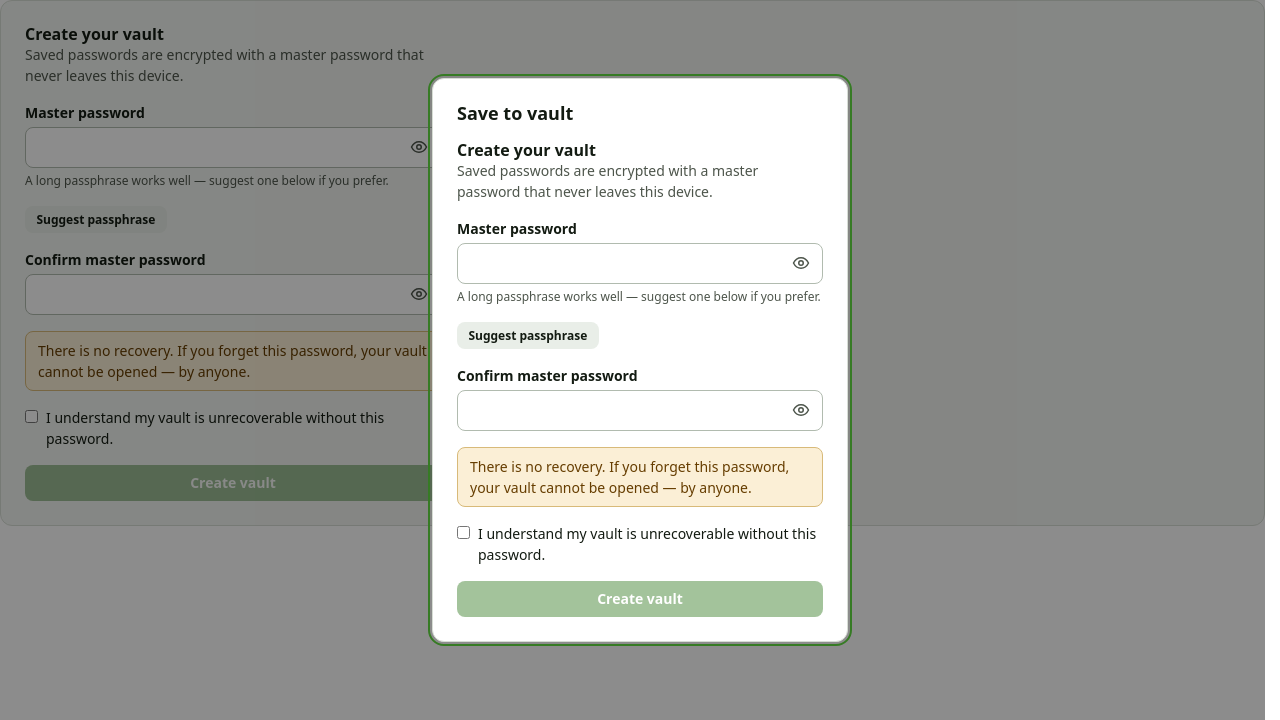
Test: SaveEntryDialog › requires a name before saving
In the password field labelled "Master password": x=640, y=263 [457, 243, 823, 284], type "a-long-master-pw"
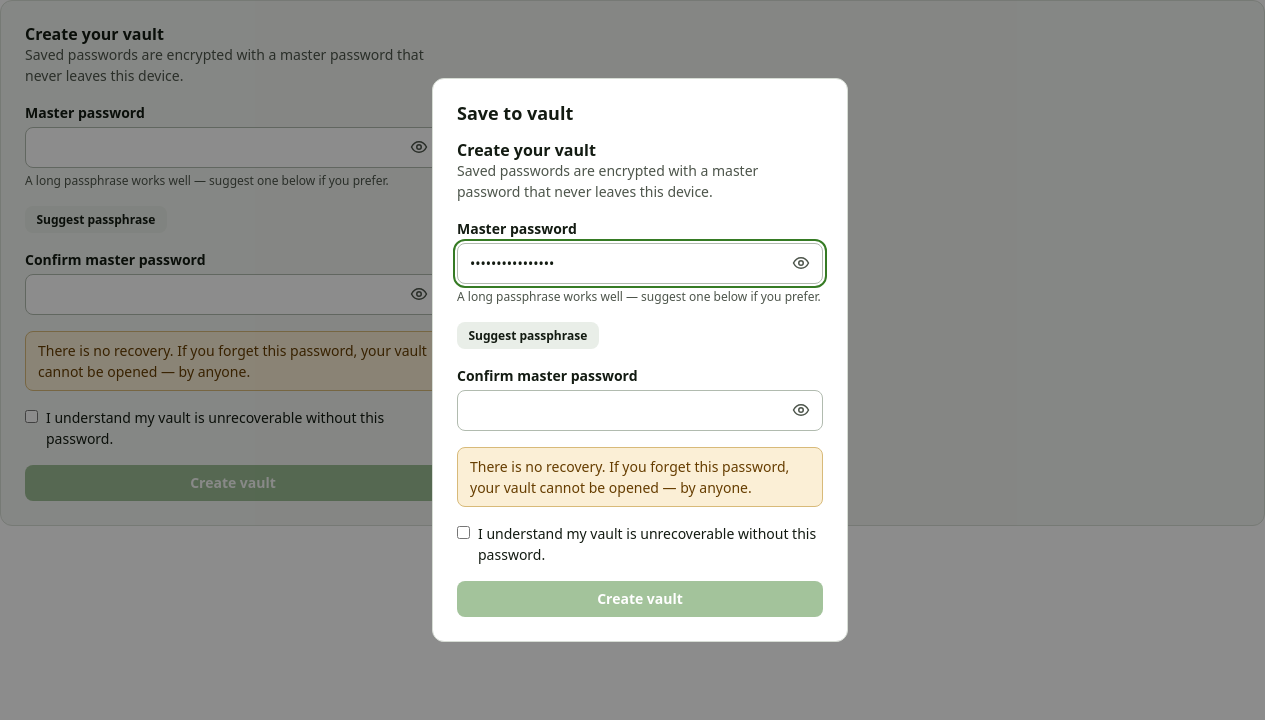
In the password field labelled "Confirm master password": x=640, y=410 [457, 390, 823, 431], type "a-long-master-pw"
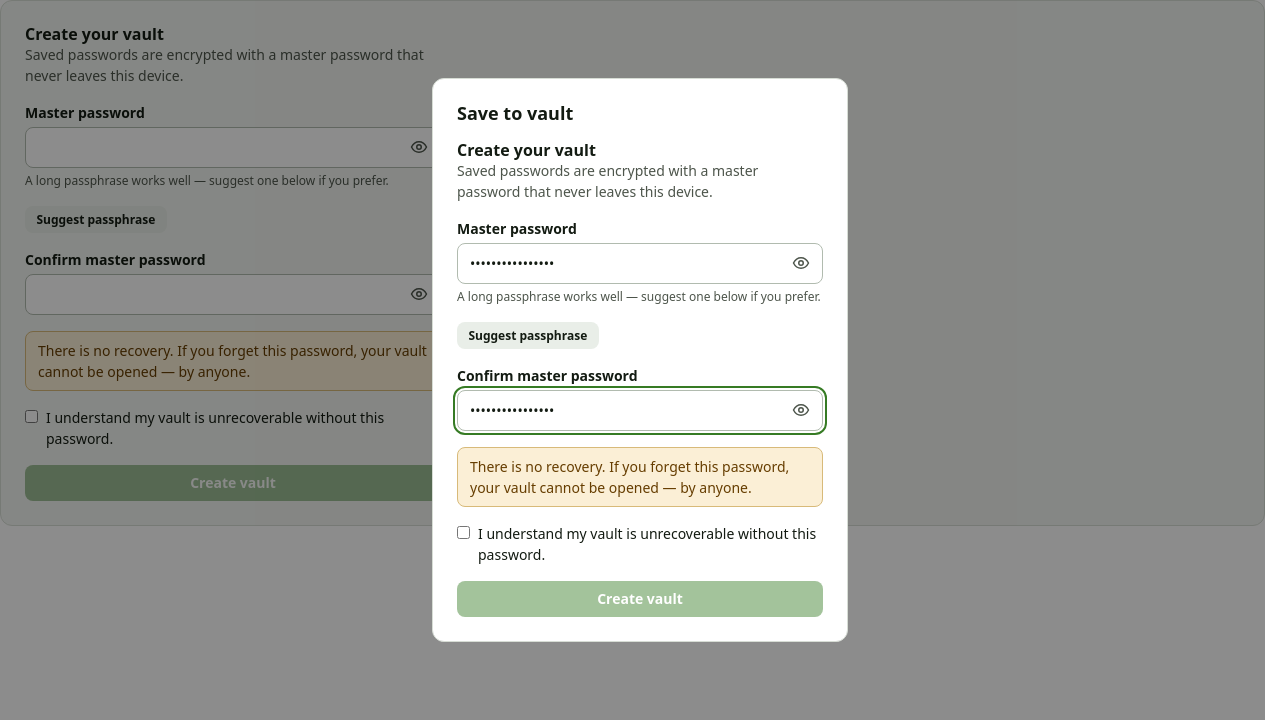
Click the checkbox: x=464, y=532 [457, 526, 470, 539]
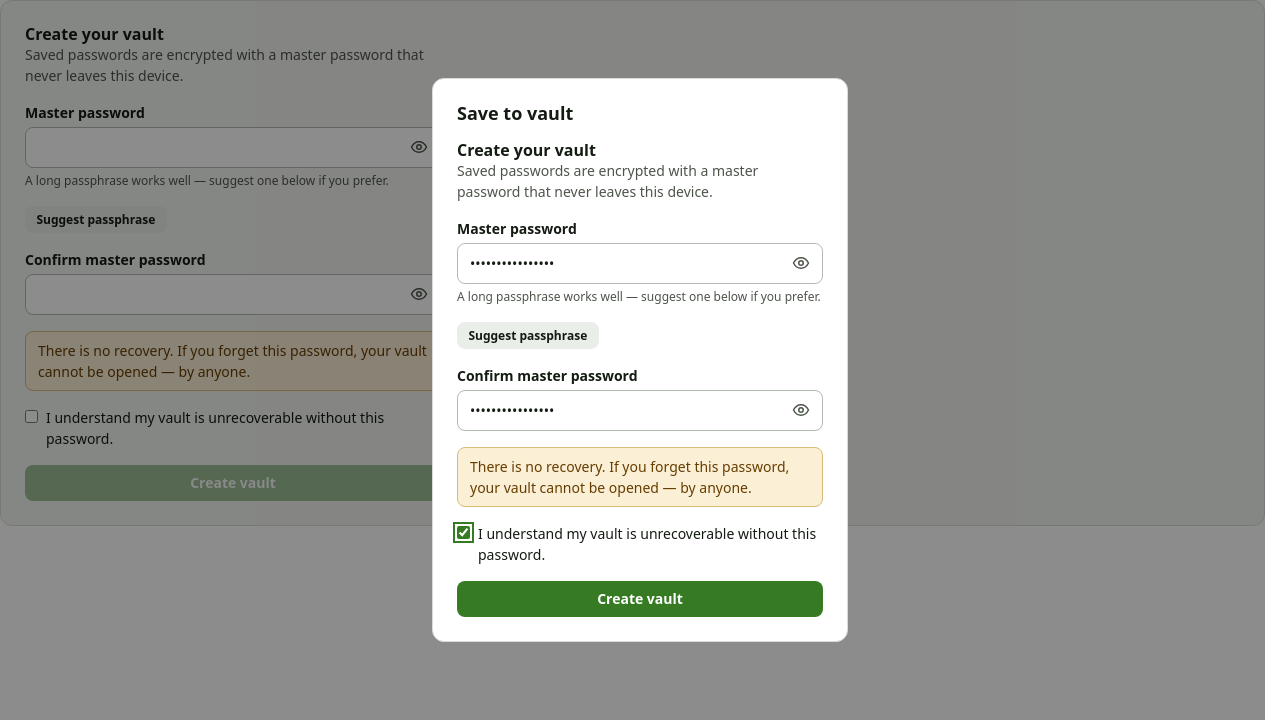
Click the button "Create vault": x=640, y=599 [457, 581, 823, 617]
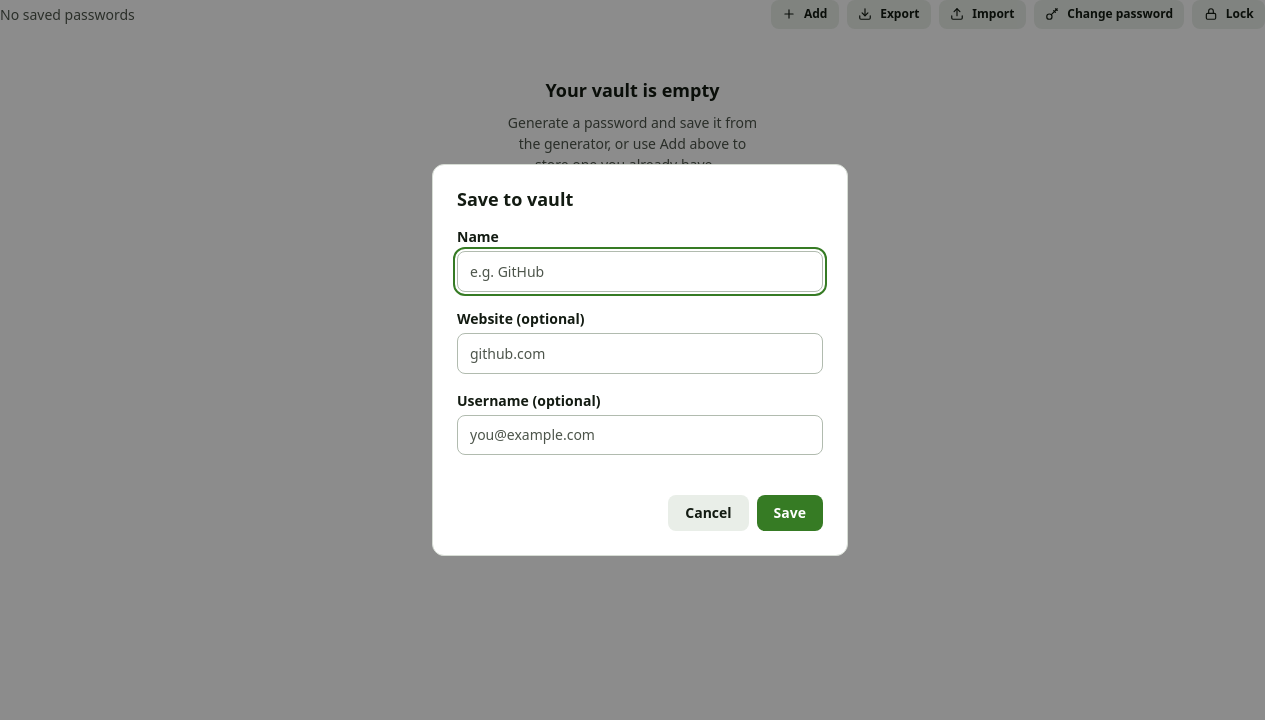
Click the button "Save": x=790, y=513 [757, 495, 823, 531]
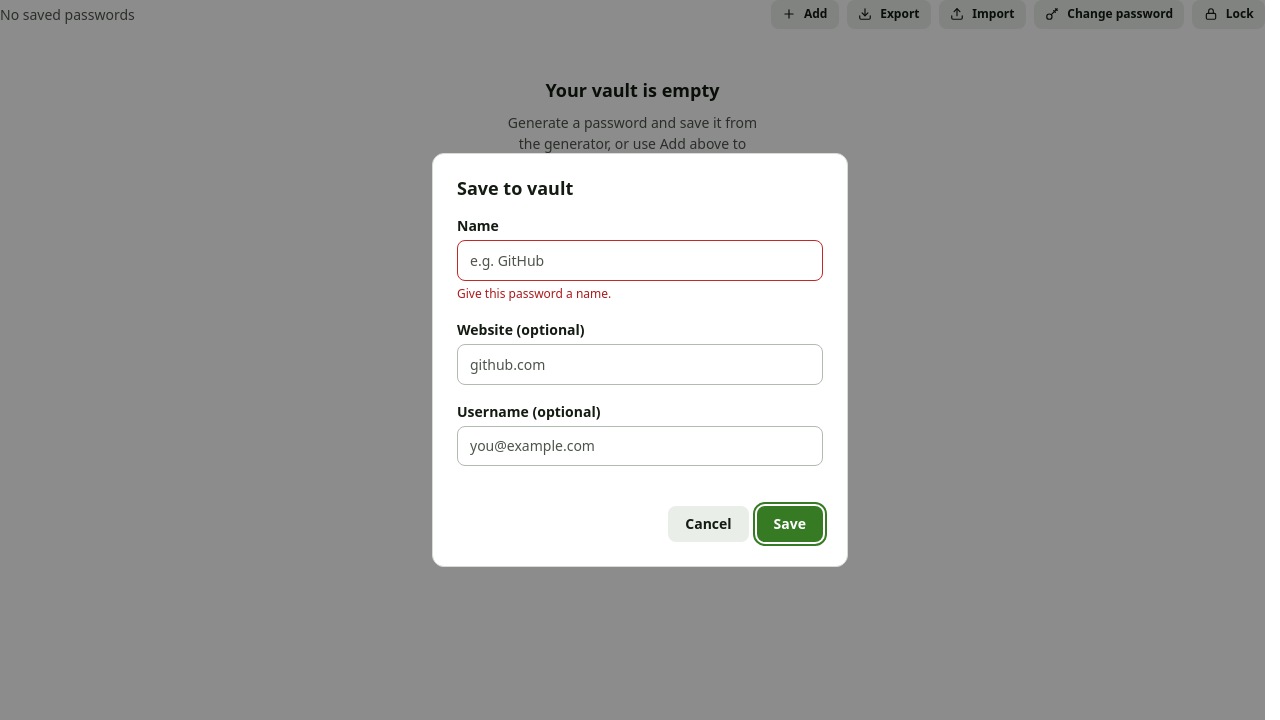
Check: the text "Give this password a name." is shown, box [457, 285, 611, 302]
